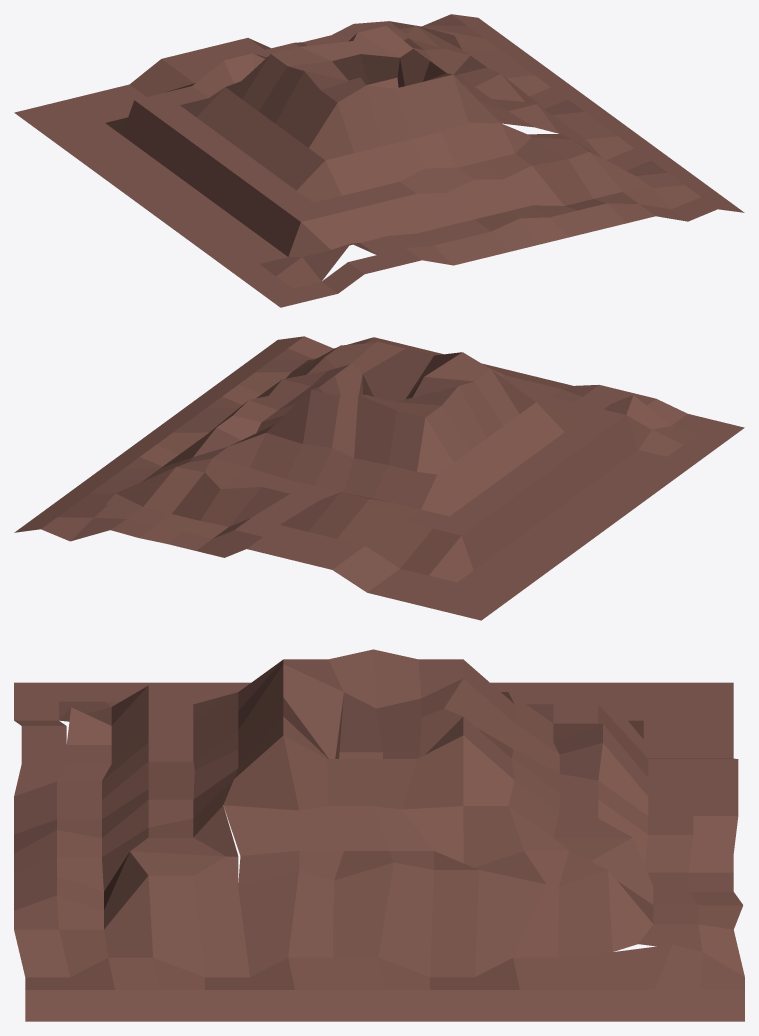
File: Volcano.fbx
3 views of the same model, one above another, from view 1: azimuth 30°, elevation 25°; view 2: azimuth 150°, elevation 25°; view 3: azimuth 270°, elevation 25° (orthographic). The views are drawn at different scales.
Parts seen in each view (by area): view 1: Plane; view 2: Plane; view 3: Plane.
Boxes of the visible parts, x1,y1,x2,y2 form: Plane: (14, 14, 744, 307); Plane: (14, 336, 744, 620); Plane: (14, 649, 744, 1021).
Size of the model in its own units: 23772 by 6139 by 23796.
